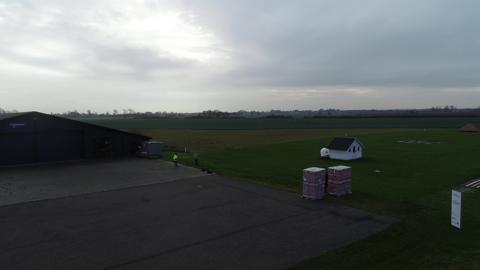RockwoolPallet: (328, 164, 353, 196)
